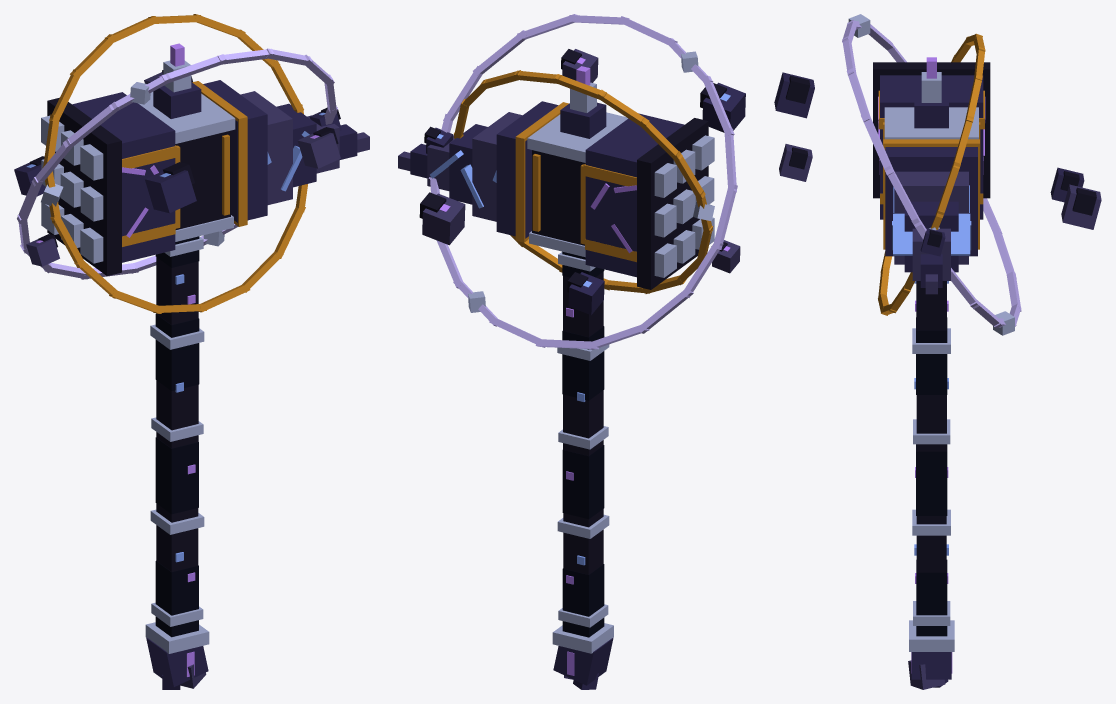
The model's file is starforge.obj.
The picture shows the model from 3 angles, left to right: view 1: azimuth 30°, elevation 25°; view 2: azimuth 150°, elevation 25°; view 3: azimuth 270°, elevation 25°; orthographic projection. The views are drawn at different scales.
Parts seen in each view (by area): view 1: crush_plate_27, crush_plate_28, meteor_pick_43, head_24, haft_3, meteor_pick_44, haft_5, haft_1, haft_6, head_25, haft_4, haft_2 (+28 smaller); view 2: crush_plate_27, crush_plate_28, head_24, meteor_pick_43, haft_3, meteor_pick_44, haft_1, haft_5, head_25, haft_4, haft_2, meteor_pick_52 (+30 smaller); view 3: meteor_pick_43, crush_plate_27, crush_plate_28, meteor_pick_44, head_25, haft_3, haft_1, haft_5, haft_4, haft_2, meteor_pick_51, meteor_pick_45 (+18 smaller).
Boxes of the visible parts, <box> form: crush_plate_27: <box>72,92,175,262</box>; crush_plate_28: <box>47,97,121,275</box>; meteor_pick_43: <box>203,80,267,222</box>; head_24: <box>175,130,230,229</box>; haft_3: <box>155,437,198,514</box>; meteor_pick_44: <box>240,91,292,204</box>; haft_5: <box>155,314,199,390</box>; haft_1: <box>155,561,198,637</box>; haft_6: <box>156,257,198,324</box>; head_25: <box>138,92,235,143</box>; haft_4: <box>156,380,198,448</box>; haft_2: <box>156,503,198,571</box>; crush_plate_27: <box>585,113,684,277</box>; crush_plate_28: <box>637,118,708,289</box>; head_24: <box>532,150,585,245</box>; meteor_pick_43: <box>496,101,558,238</box>; haft_3: <box>562,445,604,519</box>; meteor_pick_44: <box>472,112,522,221</box>; haft_1: <box>562,564,604,637</box>; haft_5: <box>562,326,604,400</box>; head_25: <box>527,112,627,162</box>; haft_4: <box>563,390,603,455</box>; haft_2: <box>563,509,603,574</box>; meteor_pick_52: <box>515,102,568,242</box>; meteor_pick_43: <box>885,147,977,256</box>; crush_plate_27: <box>880,75,983,219</box>; crush_plate_28: <box>873,62,990,198</box>; meteor_pick_44: <box>894,171,968,264</box>; head_25: <box>884,107,978,139</box>; haft_3: <box>916,444,947,515</box>; haft_1: <box>916,560,947,636</box>; haft_5: <box>916,317,947,394</box>; haft_4: <box>916,395,946,451</box>; haft_2: <box>916,516,946,572</box>; meteor_pick_51: <box>893,213,970,255</box>; meteor_pick_45: <box>904,201,958,272</box>.
Size of the model in its own units: 2.9 by 5.38 by 2.45.
